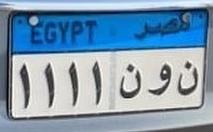1: (16, 61, 36, 108), (87, 58, 105, 107), (43, 61, 58, 109), (67, 61, 80, 108)
noon: (119, 61, 144, 103), (175, 60, 200, 99)
waw: (147, 63, 172, 100)
